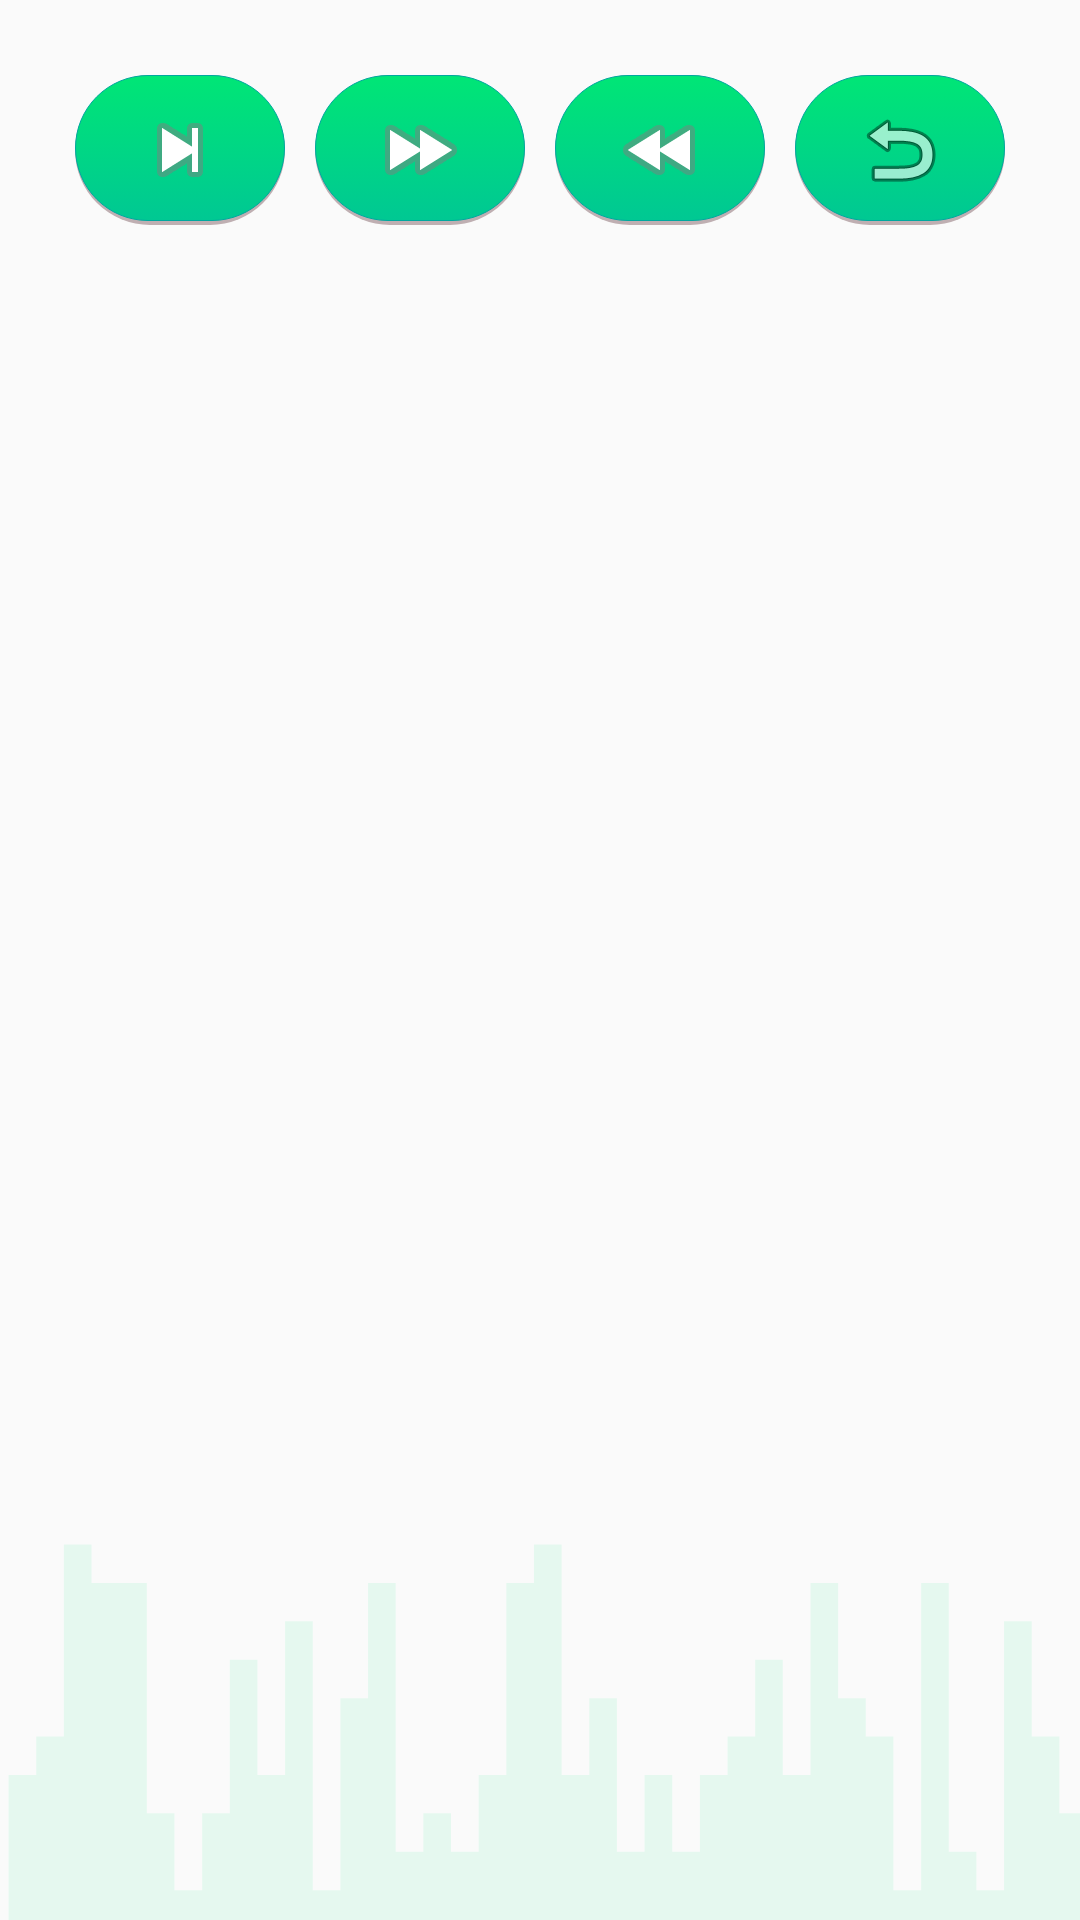

Where to tap for icons on this 1080px x 1920px app screen, as (x,y):
next: (180,150)
revert: (900,150)
rew: (660,150)
